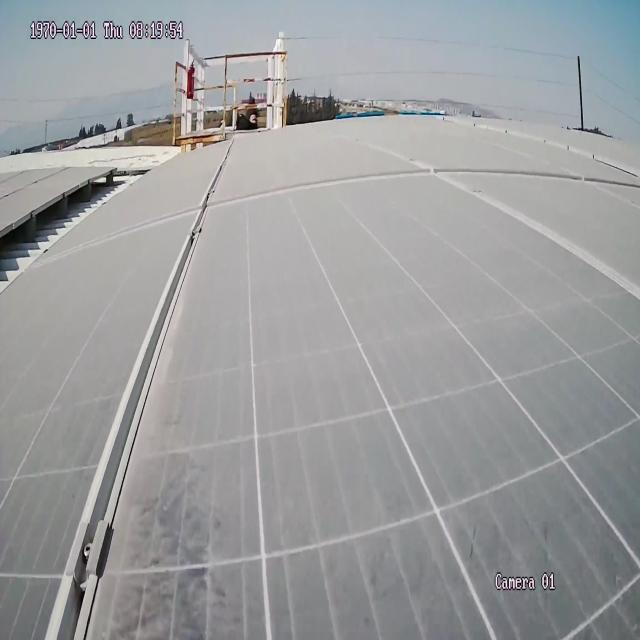interior panel: (43, 140, 238, 638), (221, 165, 639, 315)
outher panel: (1, 158, 172, 292)
